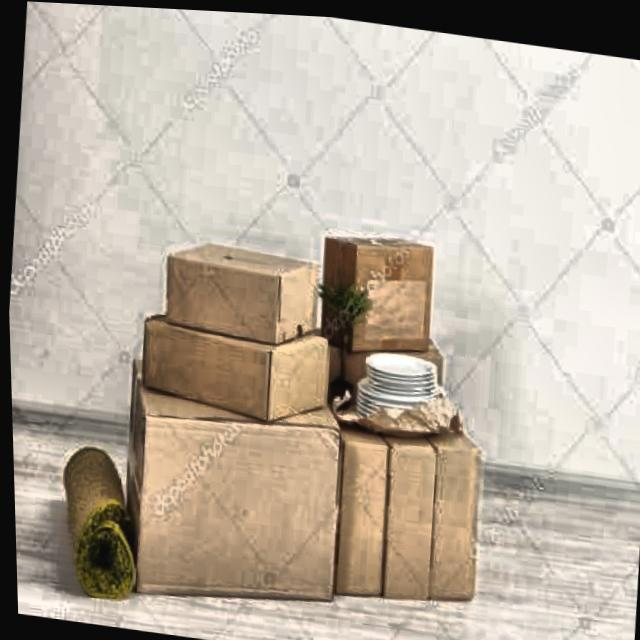Cardbox: (89, 346, 358, 624), (116, 289, 345, 426), (154, 222, 322, 346), (313, 214, 453, 362)
